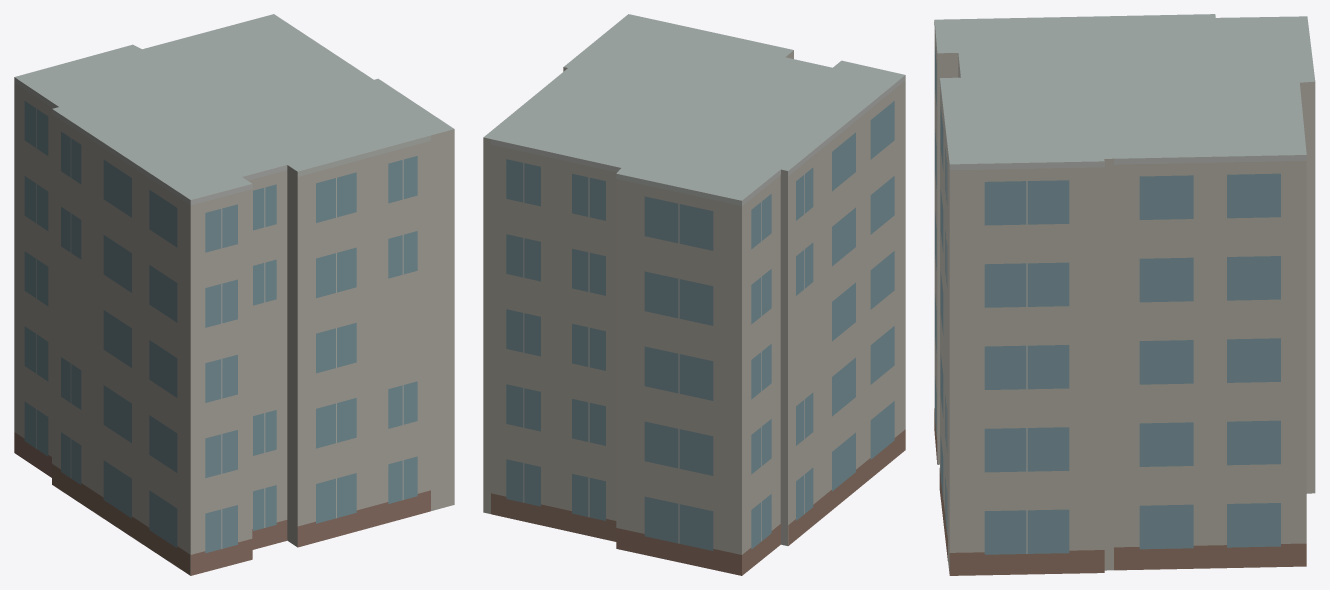
File: survey-upis-32644429.glb
The picture shows the model from 3 angles, left to right: view 1: azimuth 30°, elevation 25°; view 2: azimuth 150°, elevation 25°; view 3: azimuth 270°, elevation 25°; orthographic projection. The views are drawn at different scales.
Visible parts, largest first — view 1: survey-upis-32644429.tmp; view 2: survey-upis-32644429.tmp; view 3: survey-upis-32644429.tmp.
Boxes of the visible parts, x1=… form: survey-upis-32644429.tmp: x1=14, y1=14, x2=454, y2=575; survey-upis-32644429.tmp: x1=483, y1=14, x2=905, y2=575; survey-upis-32644429.tmp: x1=934, y1=14, x2=1315, y2=575.
Size of the model in its own units: 13.56 by 17.3 by 14.52.
